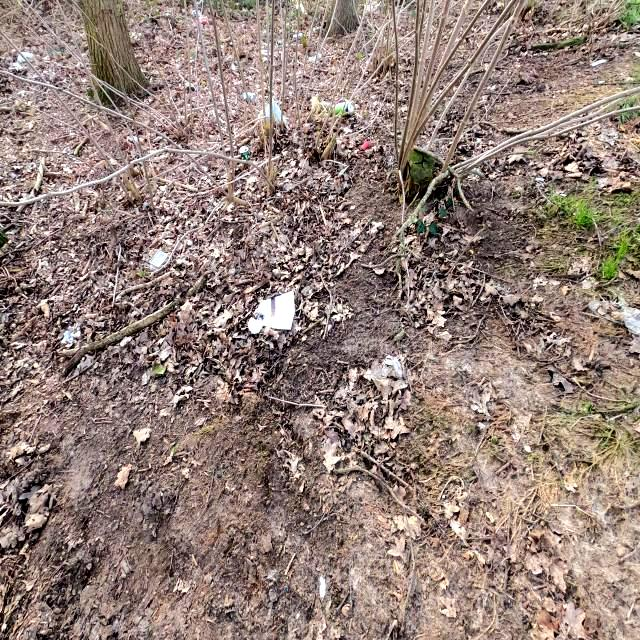Coffee Cup: (247, 289, 296, 335)
Metal: (328, 101, 354, 115), (238, 144, 250, 160), (242, 91, 256, 102), (322, 100, 334, 112)
Paper: (381, 354, 404, 381)
Plastic: (257, 98, 287, 126), (150, 250, 172, 270)
